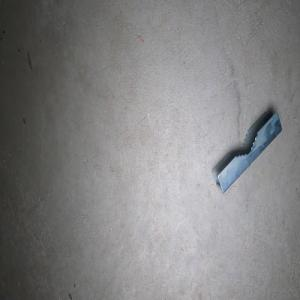ClampPart: (210, 110, 282, 194)
